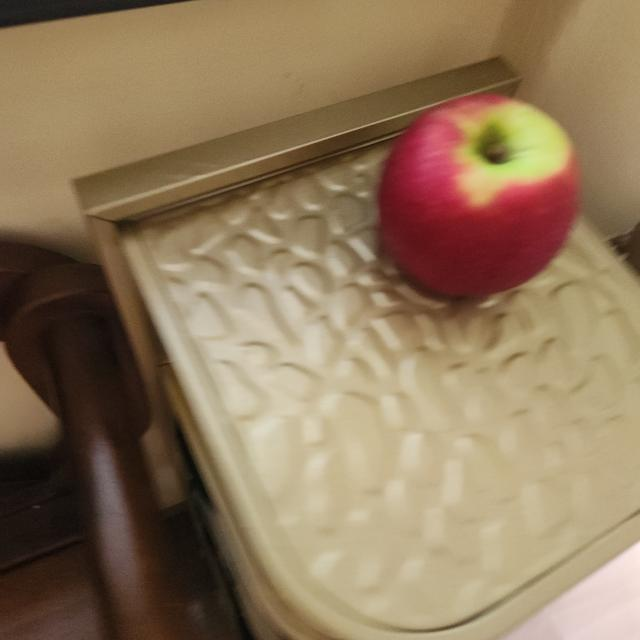apple: (372, 81, 584, 312)
